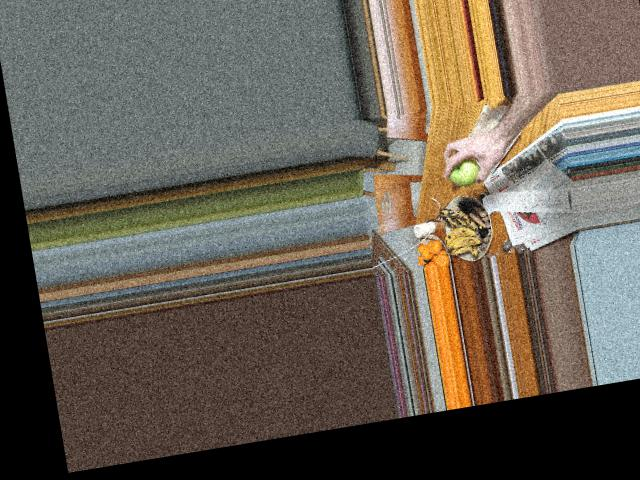apple: (441, 152, 485, 189)
